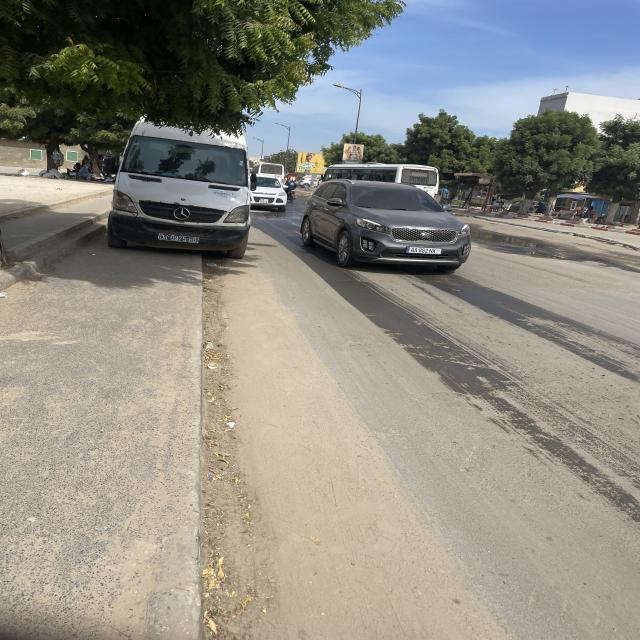bus tata: (323, 164, 439, 197), (253, 164, 286, 181)
fourgon: (108, 122, 258, 260)
particulier: (301, 181, 473, 272), (253, 177, 288, 212)
